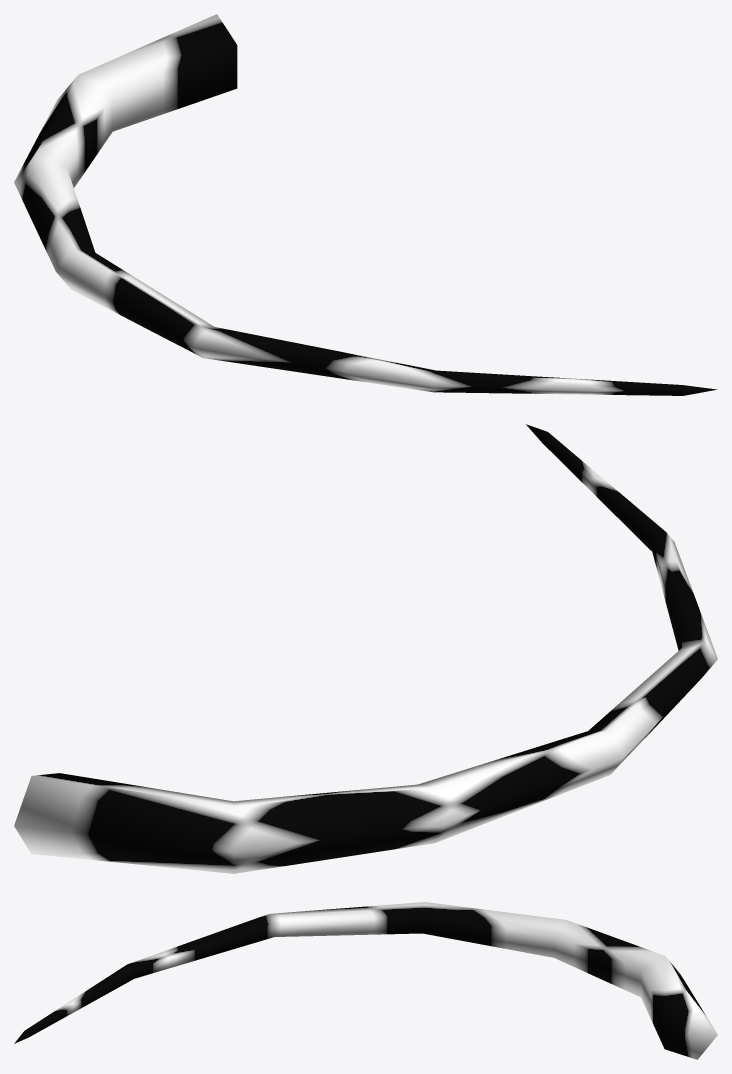
The model's file is initlitr33.dae.
3 renders of one model, top to bottom at view 1: azimuth 30°, elevation 25°; view 2: azimuth 150°, elevation 25°; view 3: azimuth 270°, elevation 25°, orthographic. The views are drawn at different scales.
Parts seen in each view (by area): view 1: item; view 2: item; view 3: item.
Part boxes in pixels (x1,y1,x2,y2): item: [14, 14, 716, 395]; item: [14, 424, 717, 873]; item: [14, 902, 717, 1059].
Bounding box in the file's own units: 0.7841 × 1.76 × 0.1409.
1 material, 1 textured.
